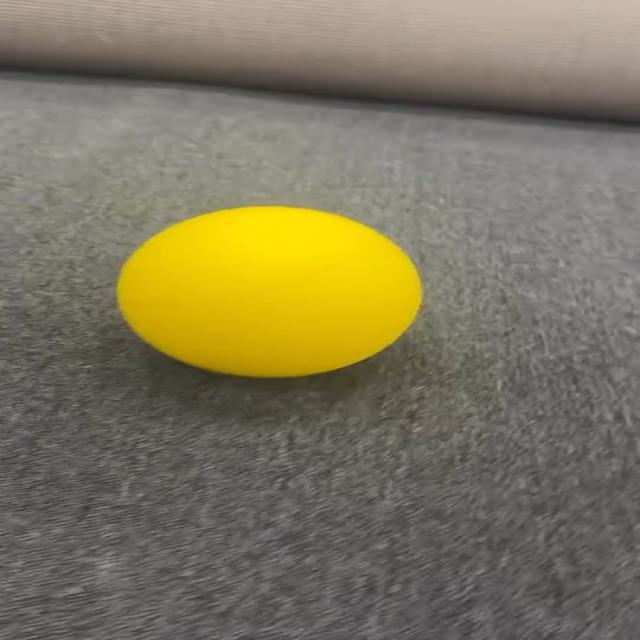Fuels: (119, 207, 419, 375)
